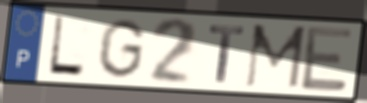2: (148, 17, 199, 86)
E: (299, 24, 355, 93)
G: (94, 17, 148, 81)
L: (45, 13, 87, 79)
M: (242, 22, 309, 91)
T: (208, 24, 246, 85)
